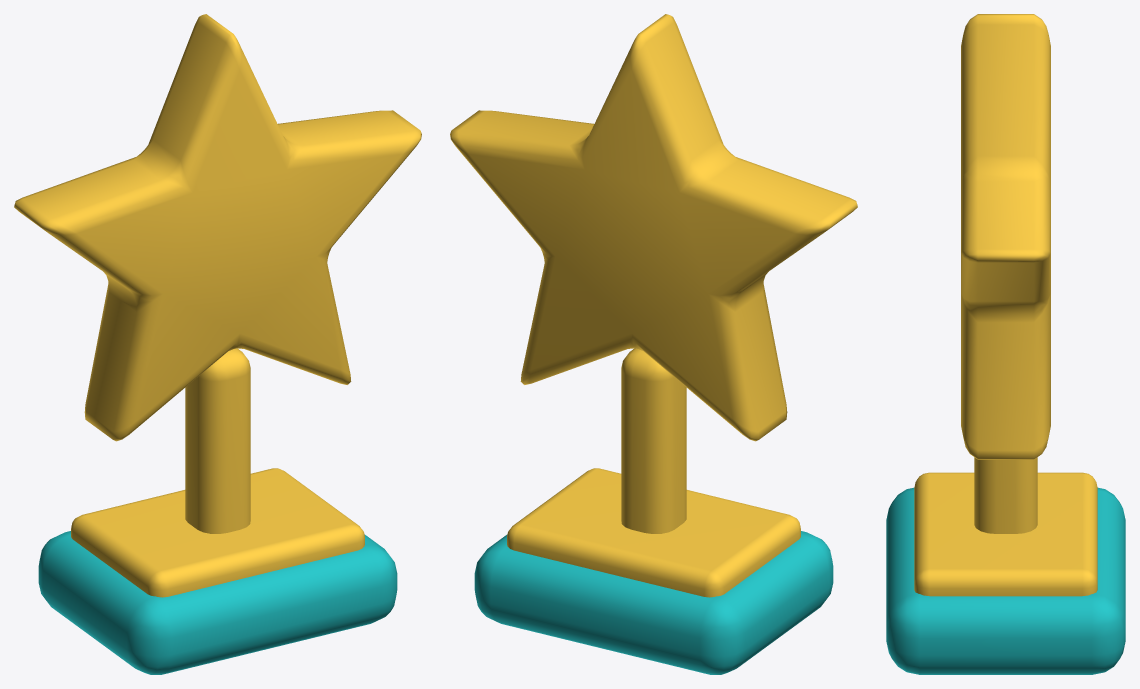
The model's file is star-trophy.glb.
3 renders of one model, left to right at view 1: azimuth 30°, elevation 25°; view 2: azimuth 150°, elevation 25°; view 3: azimuth 270°, elevation 25°, orthographic. The views are drawn at different scales.
Visible parts, largest first — view 1: Achievement star, Podium, Podium rim, Stem; view 2: Achievement star, Podium, Podium rim, Stem; view 3: Achievement star, Podium, Podium rim, Stem.
Boxes of the visible parts, <box> form: Achievement star: <box>14,14,421,441</box>; Podium: <box>38,531,397,674</box>; Podium rim: <box>71,468,364,597</box>; Stem: <box>185,348,250,533</box>; Achievement star: <box>450,14,857,441</box>; Podium: <box>474,531,833,674</box>; Podium rim: <box>507,468,800,597</box>; Stem: <box>621,348,686,533</box>; Achievement star: <box>961,14,1050,459</box>; Podium: <box>886,487,1125,674</box>; Podium rim: <box>914,472,1097,596</box>; Stem: <box>974,457,1037,533</box>.
Bounding box in the file's own units: 1.2 × 1.78 × 0.64.
